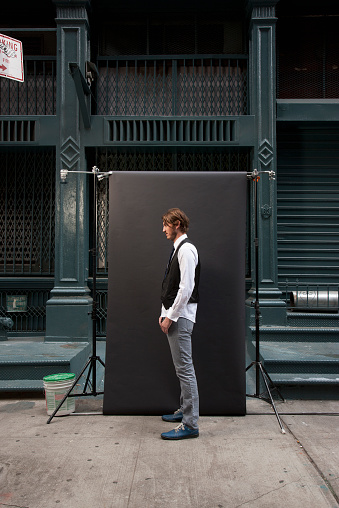em pe: (138, 205, 208, 434)
